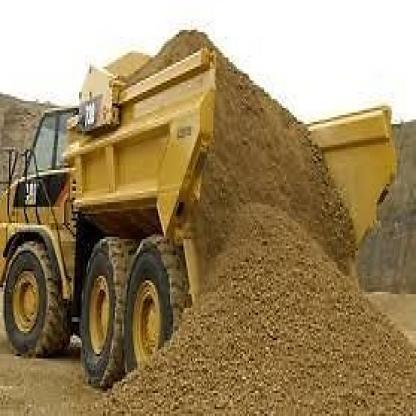dump_truck: (5, 23, 388, 388)
